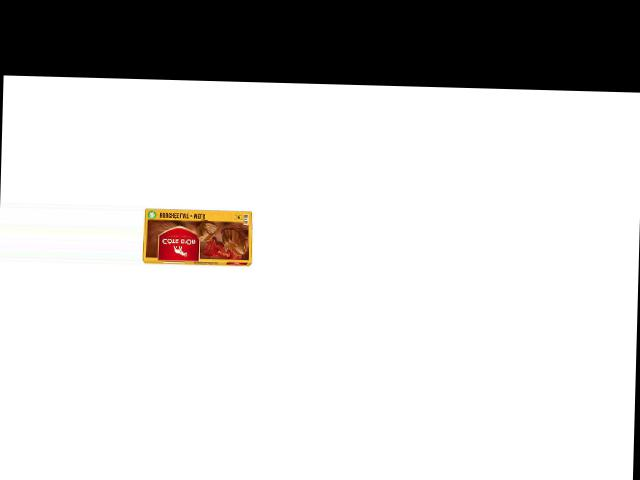chocolate: (142, 199, 255, 269)
